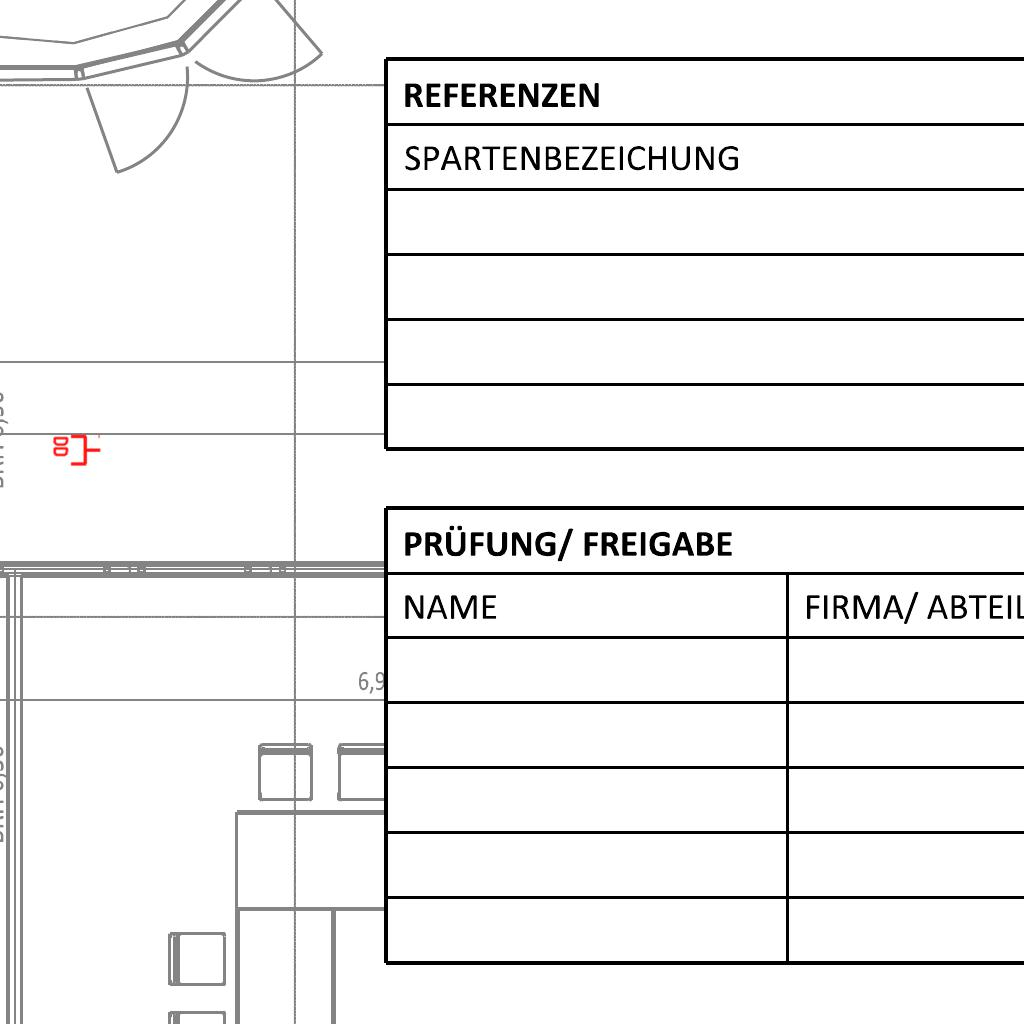Datenanschluss_zweifach: (51, 434, 102, 468)
